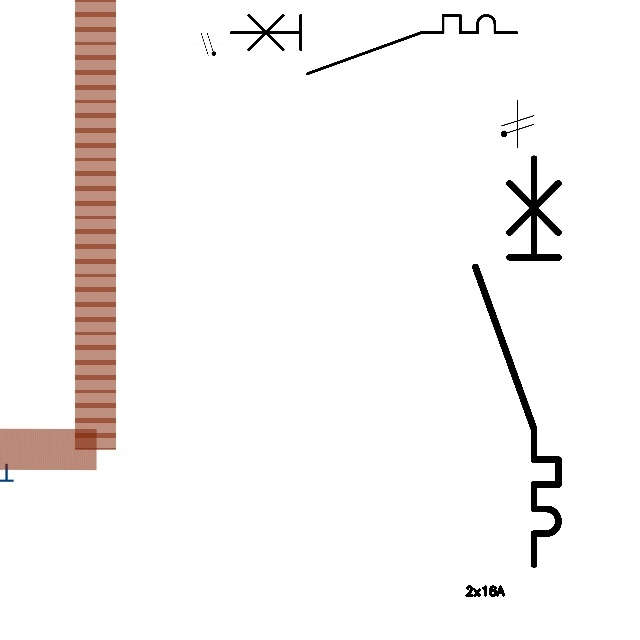interruptor_termomagnetico: (465, 148, 569, 574), (223, 8, 523, 81)
